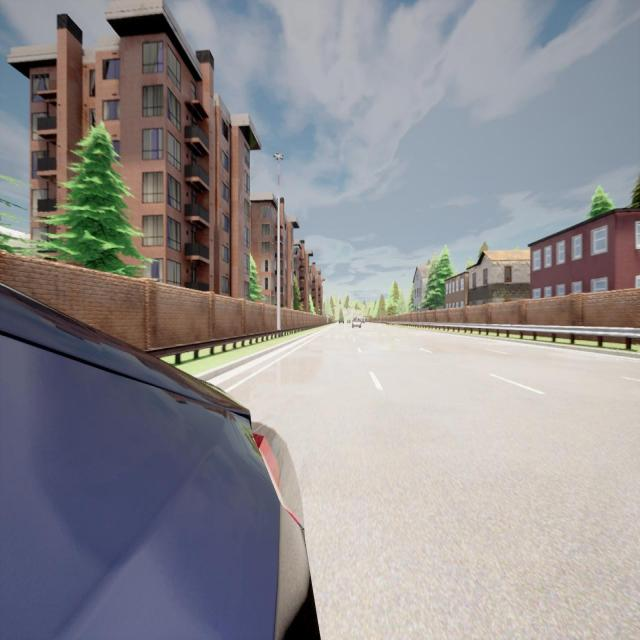Vehicle: (0, 284, 318, 638), (352, 316, 361, 329), (338, 317, 345, 324), (346, 318, 351, 325), (361, 318, 366, 323)
